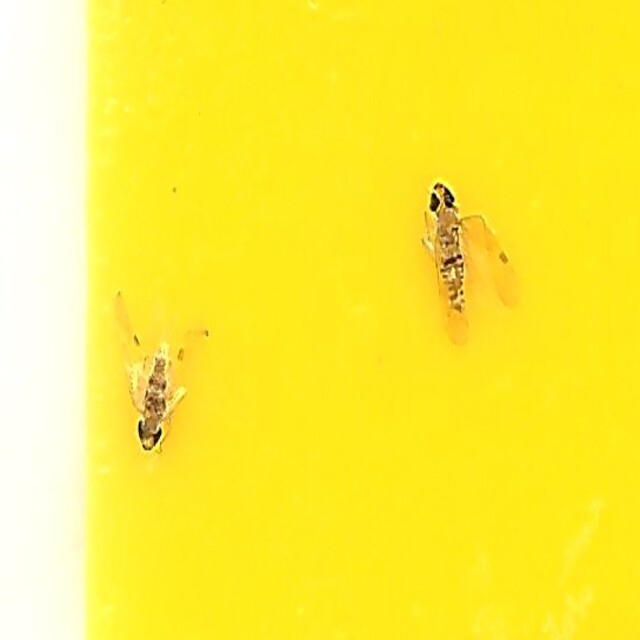Hemiptera: (422, 181, 522, 342), (118, 302, 213, 459)
